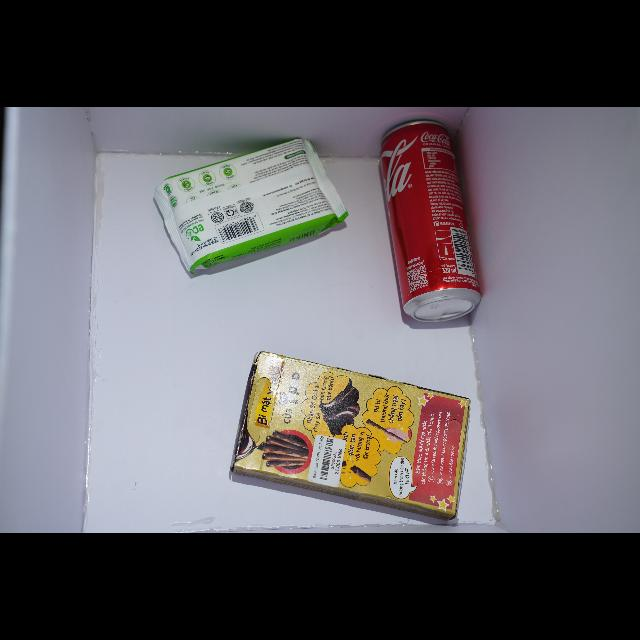banh_toppo_socola: (231, 352, 470, 520)
coca_cola: (380, 120, 480, 322)
khan_giay: (155, 139, 348, 273)
